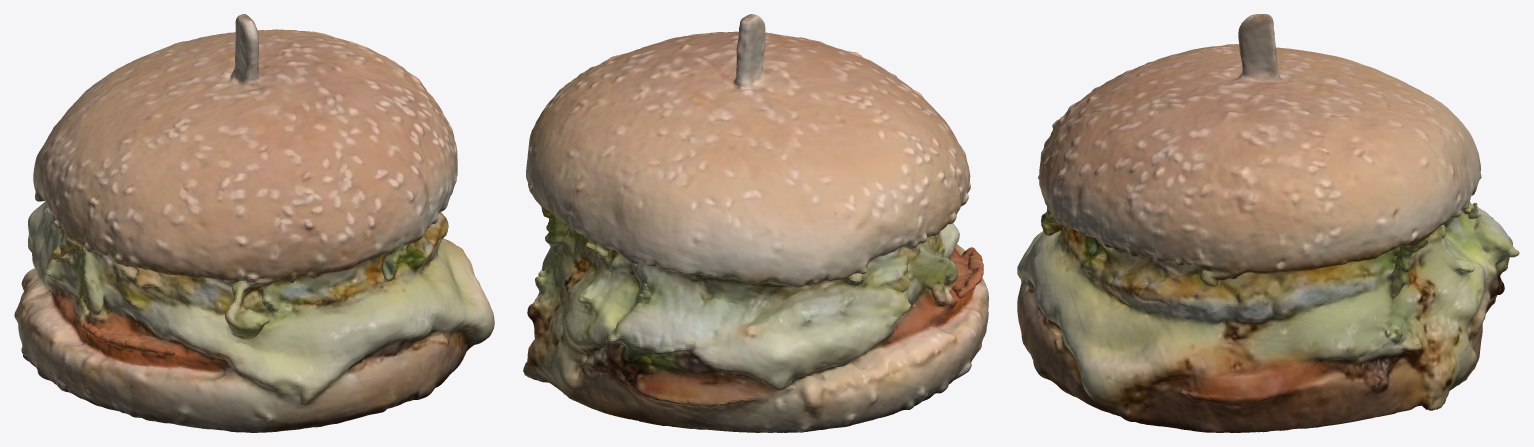
File: hamburguesac.glb
The picture shows the model from 3 angles, left to right: view 1: azimuth 30°, elevation 25°; view 2: azimuth 150°, elevation 25°; view 3: azimuth 270°, elevation 25°; orthographic projection.
Visible parts, largest first — view 1: 3DModel_Custom; view 2: 3DModel_Custom; view 3: 3DModel_Custom.
Boxes of the visible parts, left/top/right/bottom form: 3DModel_Custom: left=14, top=14, right=494, bottom=432; 3DModel_Custom: left=523, top=14, right=988, bottom=432; 3DModel_Custom: left=1017, top=14, right=1519, bottom=432.
Size of the model in its own units: 1.44 by 1.1 by 1.53.
1 material, 1 textured.
